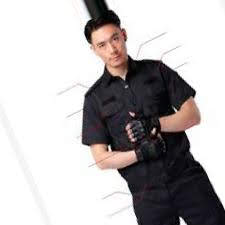uniform: (77, 58, 218, 219)
